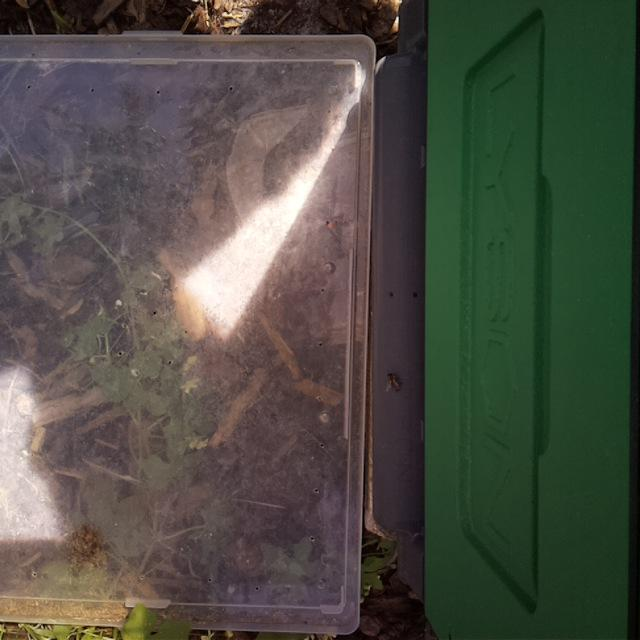worker-bee: (382, 368, 405, 401)
